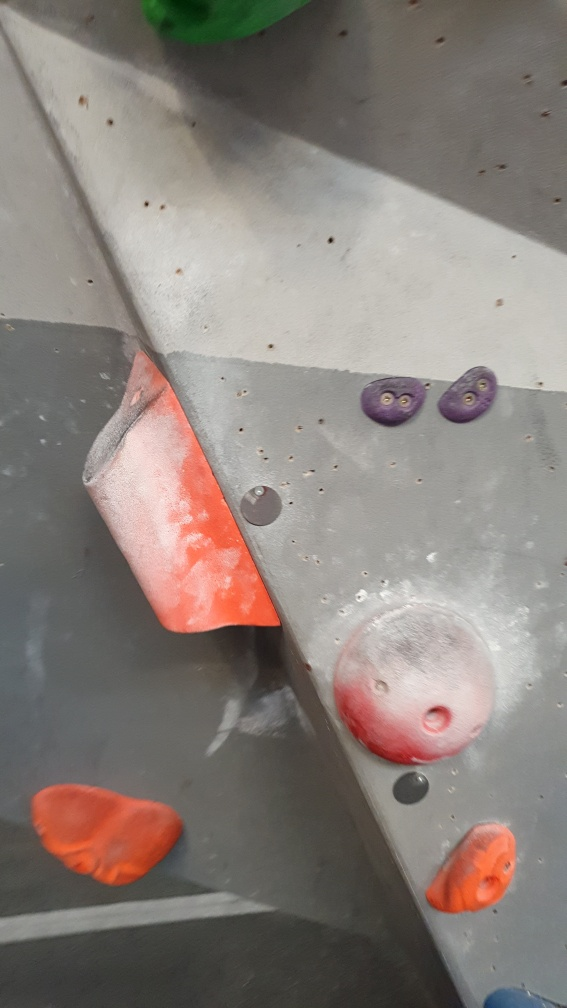Hand Start: (236, 480, 284, 532), (389, 769, 435, 809)
Pinch: (78, 348, 283, 636)
Sloper: (330, 596, 503, 762)
